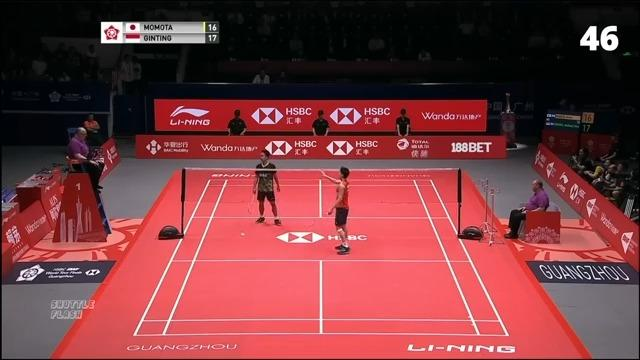Shuttlecock: (239, 231, 247, 237)
